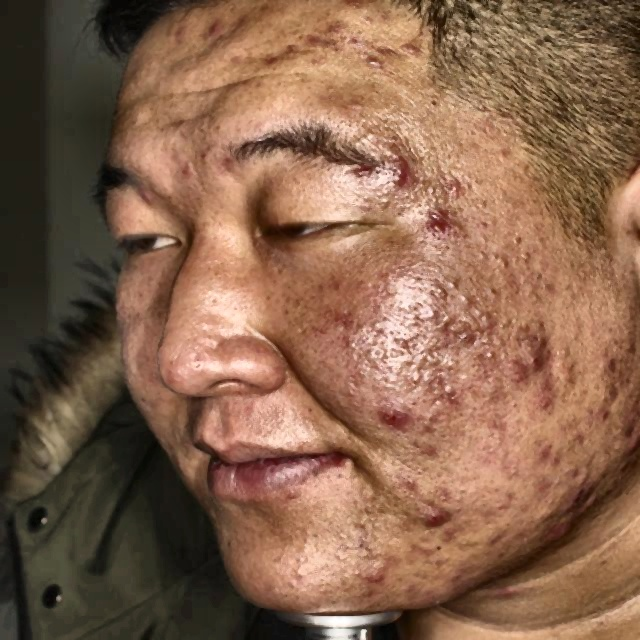papule: (364, 392, 422, 432), (380, 32, 428, 71), (289, 28, 341, 58), (533, 380, 566, 414), (427, 212, 462, 242), (320, 12, 352, 41), (354, 560, 386, 589), (563, 486, 598, 512), (205, 144, 237, 172), (401, 536, 438, 560), (524, 340, 554, 369), (500, 357, 524, 390), (528, 522, 564, 544), (588, 401, 618, 427), (349, 39, 369, 76), (441, 567, 478, 586), (158, 30, 191, 50), (268, 45, 294, 69), (383, 158, 410, 180), (208, 17, 229, 45), (435, 180, 467, 198), (421, 496, 445, 520), (531, 471, 557, 492), (440, 523, 472, 538), (539, 445, 560, 465), (363, 53, 383, 72), (606, 384, 622, 403), (183, 156, 196, 178), (406, 480, 420, 490)
